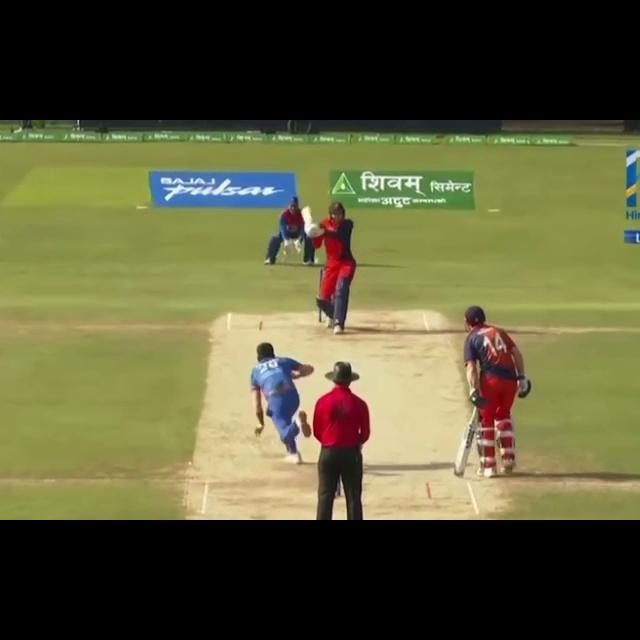umpire: (306, 358, 381, 520)
